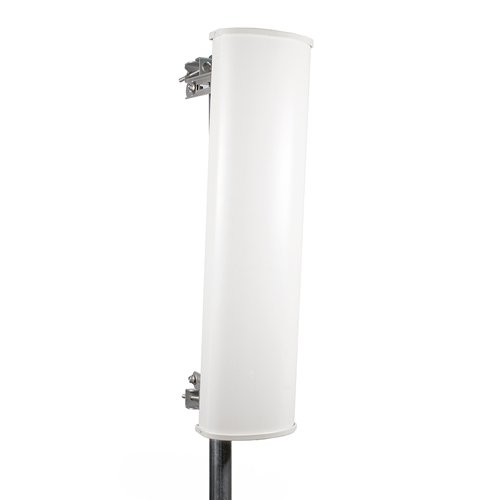sa: (175, 16, 350, 460)
